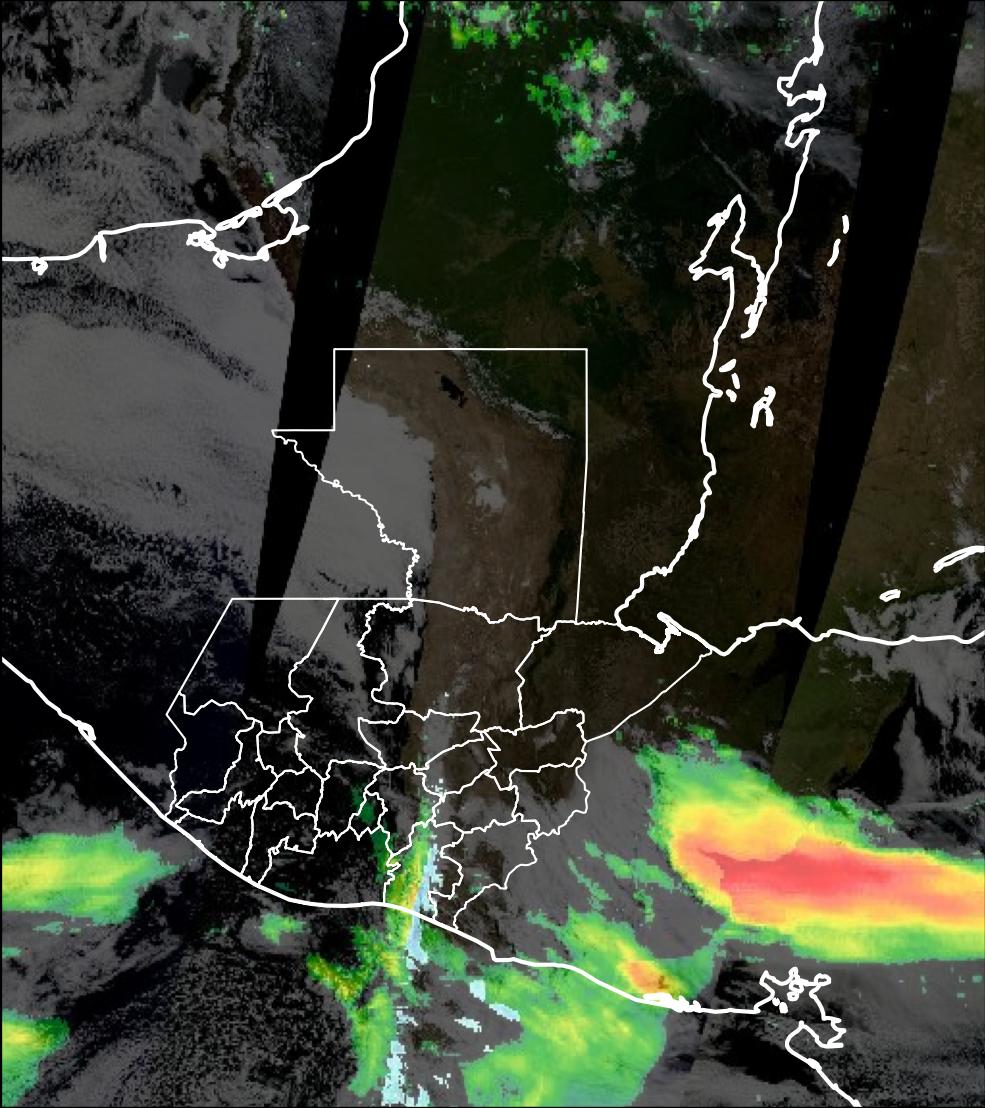precipitacion: (656, 791, 985, 949)
